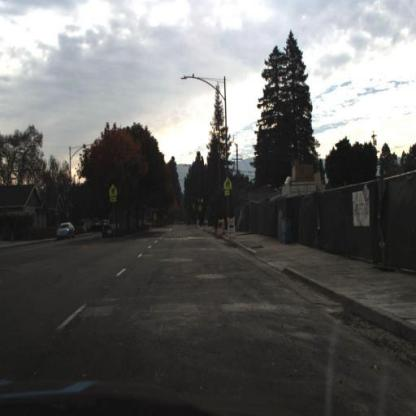car: (55, 221, 76, 239), (57, 223, 78, 241)
